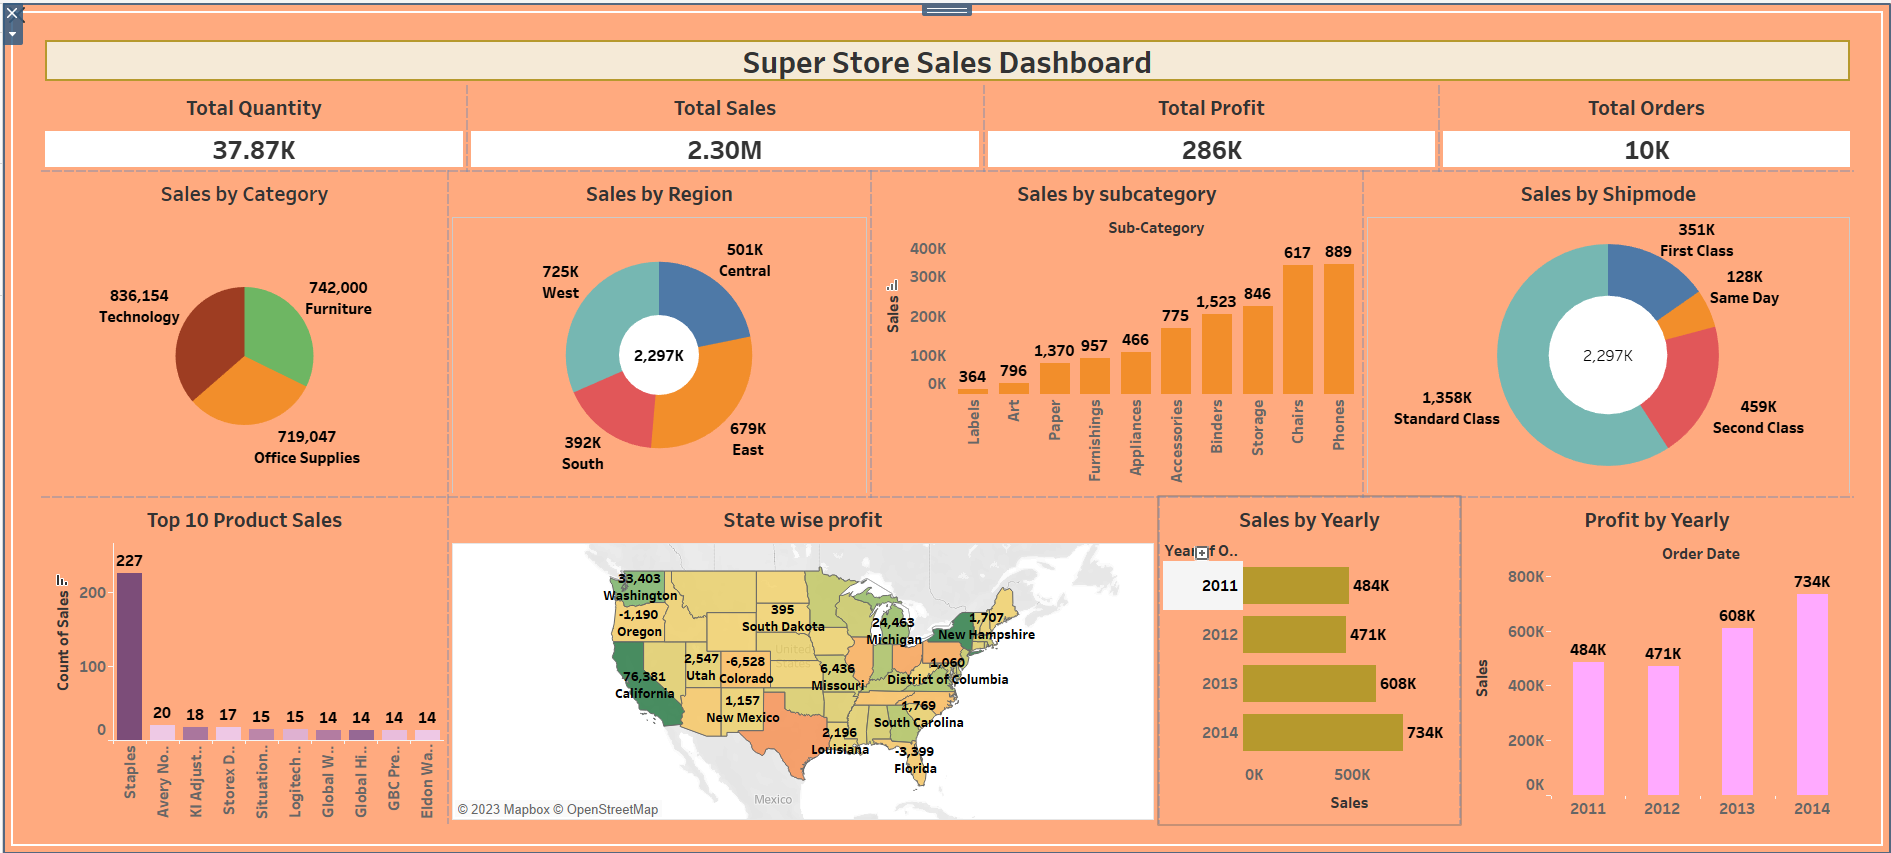

The page's visual inventory and layout, read from the dashboard file:
{"tool":"tableau","page":{"name":"Dashboard 1","canvas":[1000,1000],"units":"permille","ordinal":0},"visuals":[{"type":"dashboard-object","box":[0,0,14.6,28.2]},{"type":"title","box":[20.1,38.8,960.4,57.6]},{"type":"worksheet","title":"Total Quantity","mark":"Automatic","box":[20.1,96.4,225.8,100.8]},{"type":"worksheet","title":"Total Sales","mark":"Automatic","box":[245.9,96.4,273.5,100.8]},{"type":"worksheet","title":"Total Profit","mark":"Automatic","box":[519.4,96.4,241.1,100.8]},{"type":"worksheet","title":"Total Orders","mark":"Automatic","box":[760.5,96.4,220,100.8]},{"type":"worksheet","title":"Sales by Category","mark":"Pie","box":[20.1,197.2,215.8,383.8]},{"type":"worksheet","title":"Sales by Region","mark":"Pie","rows":["Calculation_1229764187032350722","Calculation_1229764187032424452"],"box":[235.9,197.2,224.1,383.8]},{"type":"worksheet","title":"Sales by subcategory","mark":"Automatic","rows":["Sales"],"cols":["Sub-Category"],"box":[460,197.2,260.5,383.8]},{"type":"worksheet","title":"Sales by Shipmode","mark":"Pie","rows":["Calculation_1229764187050012682","Calculation_1229764187050049548"],"box":[720.5,197.2,260,383.8]},{"type":"worksheet","title":"Top 10 Product Sales","mark":"Automatic","rows":["Sales"],"cols":["Product Name"],"box":[20.1,581,215.8,383.8]},{"type":"worksheet","title":"State wise profit","mark":"Automatic","box":[235.9,581,376.2,383.8]},{"type":"worksheet","title":"Sales by yearly","mark":"Bar","rows":["Order Date"],"cols":["Sales"],"box":[612.1,581,159.6,383.8]},{"type":"worksheet","title":"Profit by Yearly","mark":"Bar","rows":["Sales"],"cols":["Order Date"],"box":[771.7,581,208.8,383.8]}]}

Visuals, with their boxes on the dashboard's canvas, which has no fixed pixel size, in thousandths of its width and height (x1, y1, x2, y2). These are canvas units, not pixel positions in the 1891x853 screenshot, which may show the page scaled, cropped or inside an application window:
dashboard-object: locate(0, 0, 15, 28)
title: locate(20, 39, 980, 96)
"Total Quantity" worksheet: locate(20, 96, 246, 197)
"Total Sales" worksheet: locate(246, 96, 519, 197)
"Total Profit" worksheet: locate(519, 96, 760, 197)
"Total Orders" worksheet: locate(760, 96, 980, 197)
"Sales by Category" worksheet (Pie marks): locate(20, 197, 236, 581)
"Sales by Region" worksheet (Pie marks): locate(236, 197, 460, 581)
"Sales by subcategory" worksheet: locate(460, 197, 720, 581)
"Sales by Shipmode" worksheet (Pie marks): locate(720, 197, 980, 581)
"Top 10 Product Sales" worksheet: locate(20, 581, 236, 965)
"State wise profit" worksheet: locate(236, 581, 612, 965)
"Sales by yearly" worksheet (Bar marks): locate(612, 581, 772, 965)
"Profit by Yearly" worksheet (Bar marks): locate(772, 581, 980, 965)
